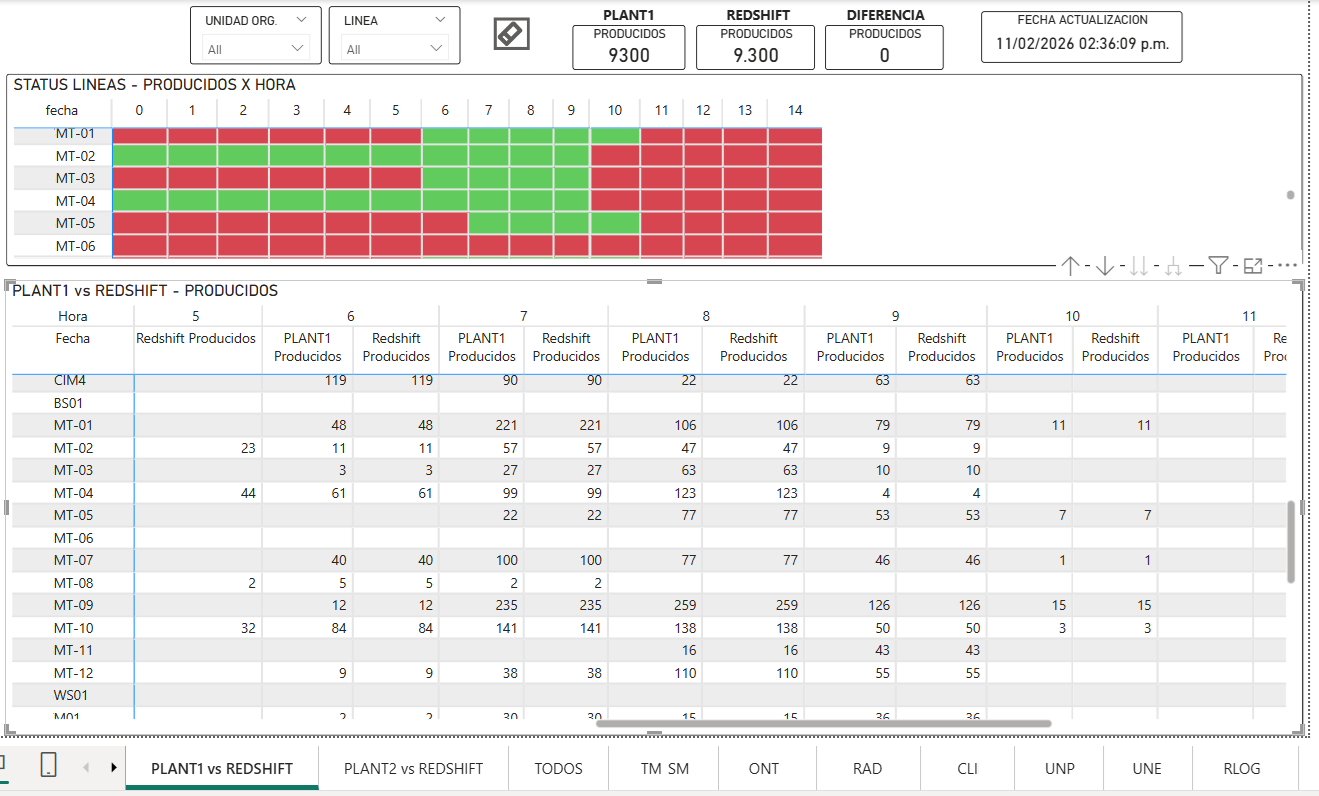

Layout of this report page (visuals, bound fields, positions):
{"tool":"powerbi","page":{"name":"PLANT1 vs REDSHIFT","canvas":[1280,720],"ordinal":0},"visuals":[{"type":"slicer","fields":{"Values":["Union_Origenes.cod_uorg_pp10"]},"box":[185.9,6.1,129,57],"z":0},{"type":"slicer","fields":{"Values":["Union_Origenes.cod_lprod_19m"]},"box":[321.9,6.1,129,57],"z":1000},{"type":"actionButton","box":[483.1,17.1,35.5,31.8],"z":2000},{"type":"pivotTable","title":"STATUS LINEAS - PRODUCIDOS X HORA","fields":{"Rows":["Timezone.fecha","Query1.cod_lprod_19m"],"Values":["Query1.Status_linea1"],"Columns":["TablaHoras.Hora"]},"box":[6.1,72.1,1268.1,188.3],"z":3000},{"type":"card","title":"FECHA ACTUALIZACION","fields":{"Values":["Min(Timezone.origen)"]},"box":[960,11,196.9,50.1],"z":4000},{"type":"textbox","box":[546.6,0,390.1,72.1],"z":5000},{"type":"card","title":"PRODUCIDOS","fields":{"Values":["Metricas.Redshift_Producidos_tdf"]},"box":[681.2,24.5,116.2,44],"z":6000},{"type":"card","title":"PRODUCIDOS","fields":{"Values":["Query1.Simtdf_Producidos"]},"box":[560.2,24.5,110.1,44],"z":7000},{"type":"card","title":"PRODUCIDOS","fields":{"Values":["Query1.Producidos_Compara"]},"box":[807.2,24.5,116.2,44],"z":8000},{"type":"pivotTable","title":"PLANT1 vs REDSHIFT - PRODUCIDOS","fields":{"Rows":["Timezone.fecha","Union_Origenes.cod_lprod_19m"],"Values":["Query1.Simtdf_producidos","Metricas.Redshift_Producidos_tdf"],"Columns":["TablaHoras.Hora"]},"box":[5.4,273.5,1269.5,445.5],"z":9000}]}

Visuals, with their boxes on the page's 1280x720 design canvas (x1, y1, x2, y2). These are canvas units, not pixel positions in the 1319x796 screenshot, which may show the page scaled, cropped or inside an application window:
slicer - Union_Origenes.cod_uorg_pp10: rect(186, 6, 315, 63)
slicer - Union_Origenes.cod_lprod_19m: rect(322, 6, 451, 63)
actionButton: rect(483, 17, 519, 49)
"STATUS LINEAS - PRODUCIDOS X HORA" pivotTable: rect(6, 72, 1274, 260)
"FECHA ACTUALIZACION" card: rect(960, 11, 1157, 61)
textbox: rect(547, 0, 937, 72)
"PRODUCIDOS" card: rect(681, 24, 797, 68)
"PRODUCIDOS" card: rect(560, 24, 670, 68)
"PRODUCIDOS" card: rect(807, 24, 923, 68)
"PLANT1 vs REDSHIFT - PRODUCIDOS" pivotTable: rect(5, 274, 1275, 719)
